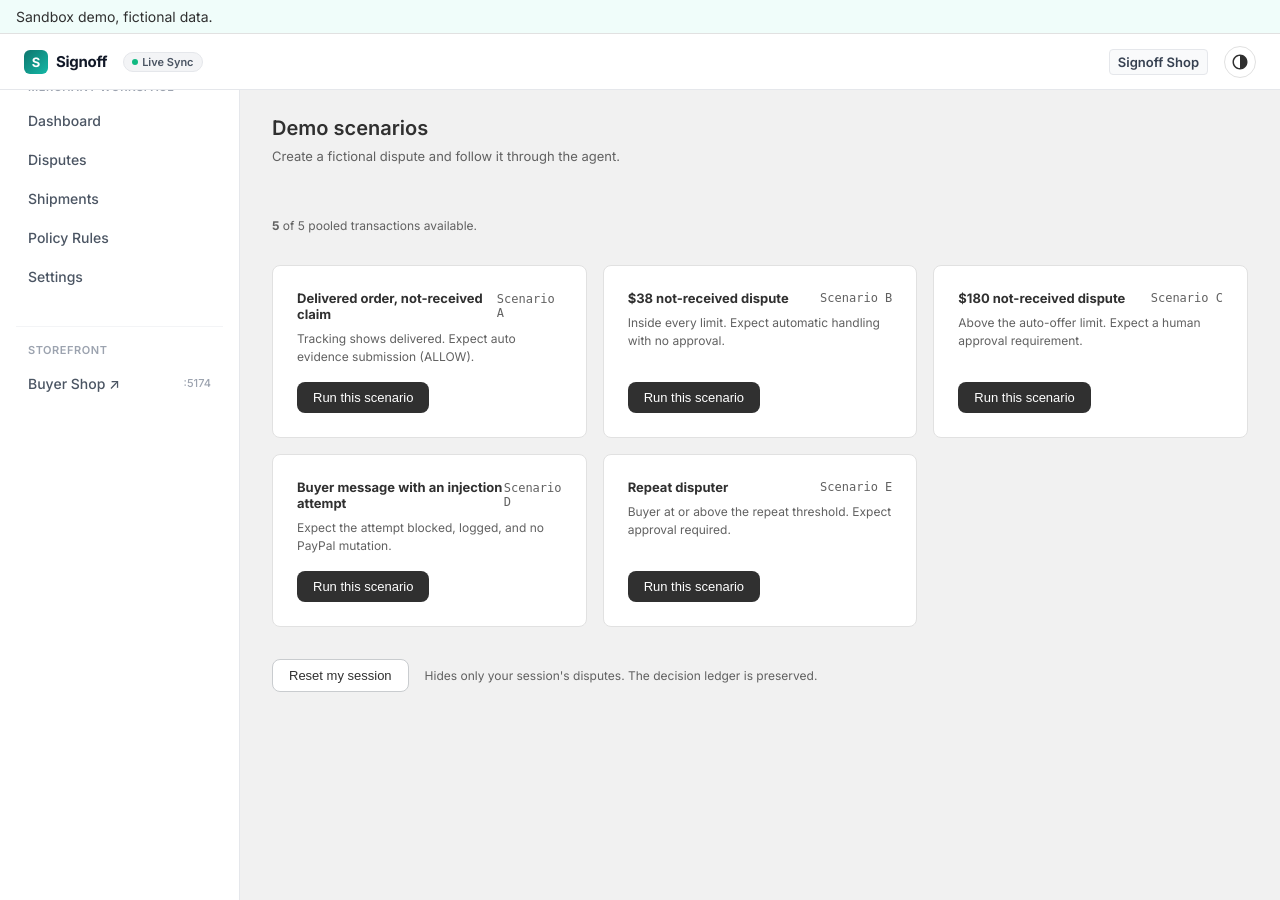
Demo panel (Step 27) › resets only the current session
Expected: the header with test id "demo-panel-title" is shown, [272,116,620,164]
Expected: the element with test id "demo-pool-status" is shown, [272,218,477,233]
Click the button with test id "demo-scenario-A". click: (363, 398)
box: [297,382,430,413]
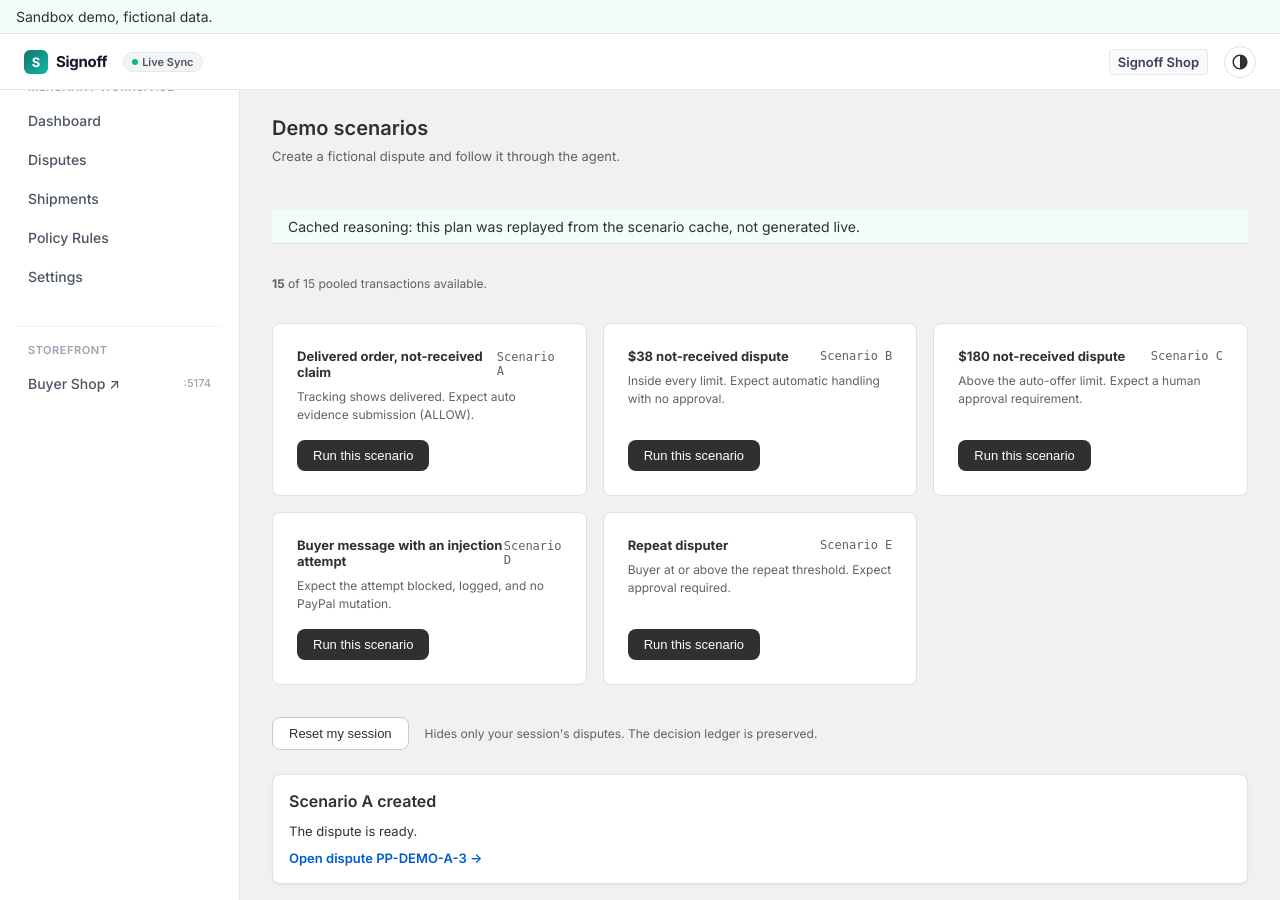
Now the link with test id "demo-created-link" is shown, box [289,850,482,866]
Click the button with test id "demo-reset-button". click: (340, 734)
box: [272,717,409,750]
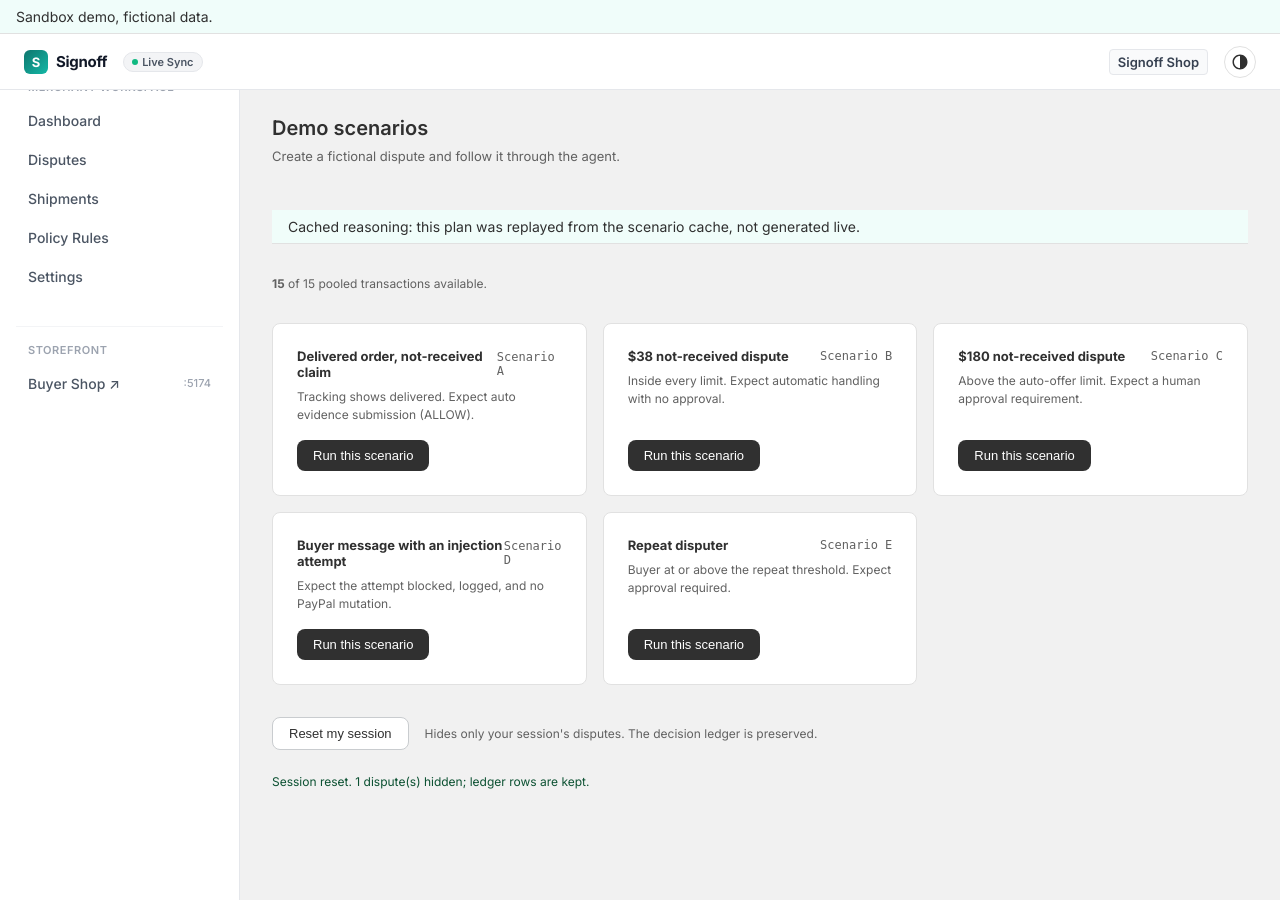
Now the message with test id "demo-reset-result" shows "ledger rows are kept", box [272,774,590,789]
